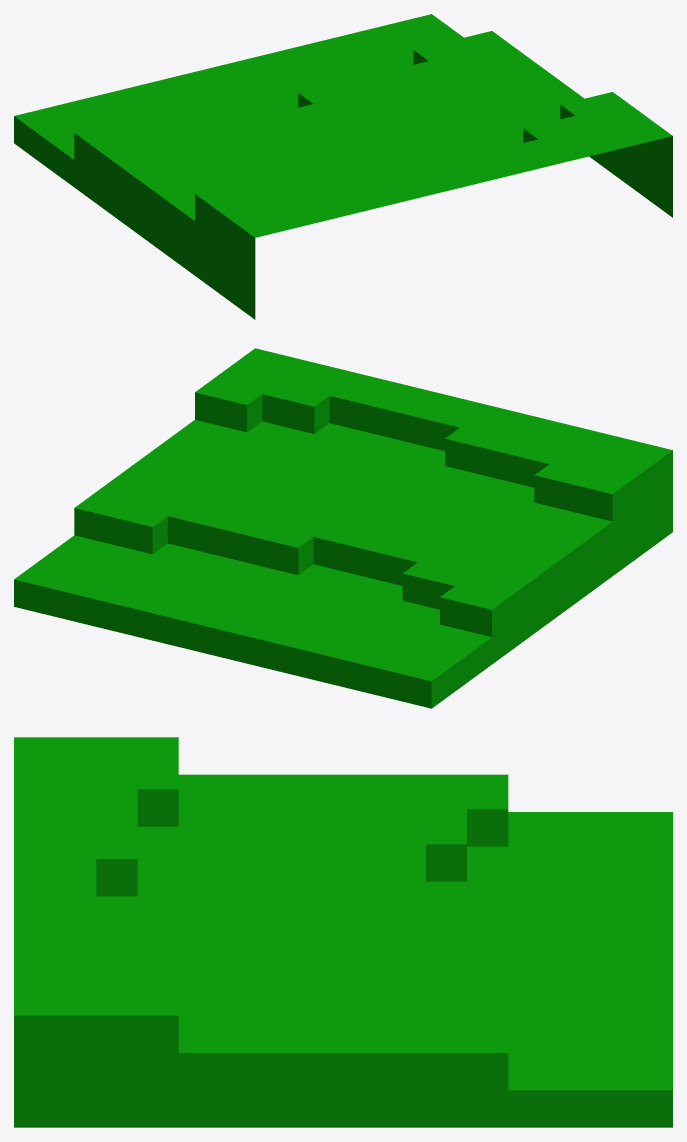
File: Straight19.fbx
The picture shows the model from 3 angles, top to bottom: view 1: azimuth 30°, elevation 25°; view 2: azimuth 150°, elevation 25°; view 3: azimuth 270°, elevation 25°; orthographic projection. The views are drawn at different scales.
Parts seen in each view (by area): view 1: Matrix; view 2: Matrix; view 3: Matrix.
Boxes of the visible parts, left/top/right/bottom form: Matrix: left=14, top=14, right=672, bottom=319; Matrix: left=14, top=348, right=672, bottom=708; Matrix: left=14, top=737, right=672, bottom=1127.
Size of the model in its own units: 16 by 3 by 16.
Materials: 1 (1 with a texture image).
